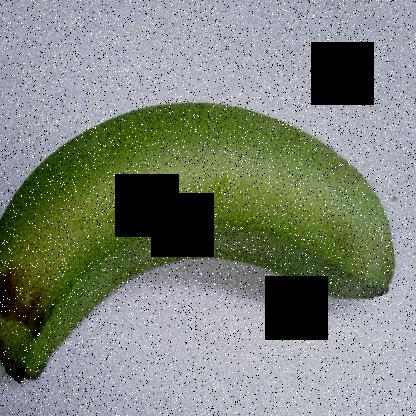freshunripe: (1, 94, 407, 398)
